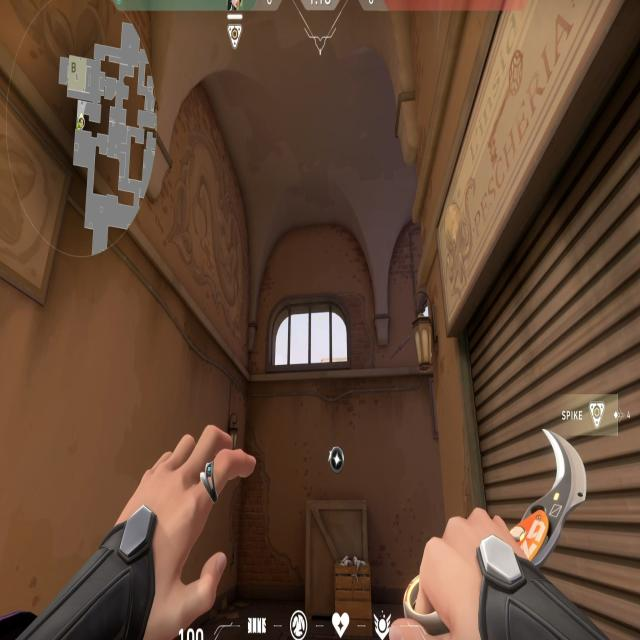B_Main_Wallbang: (268, 444, 349, 611)
Throwables: (260, 292, 356, 373)
